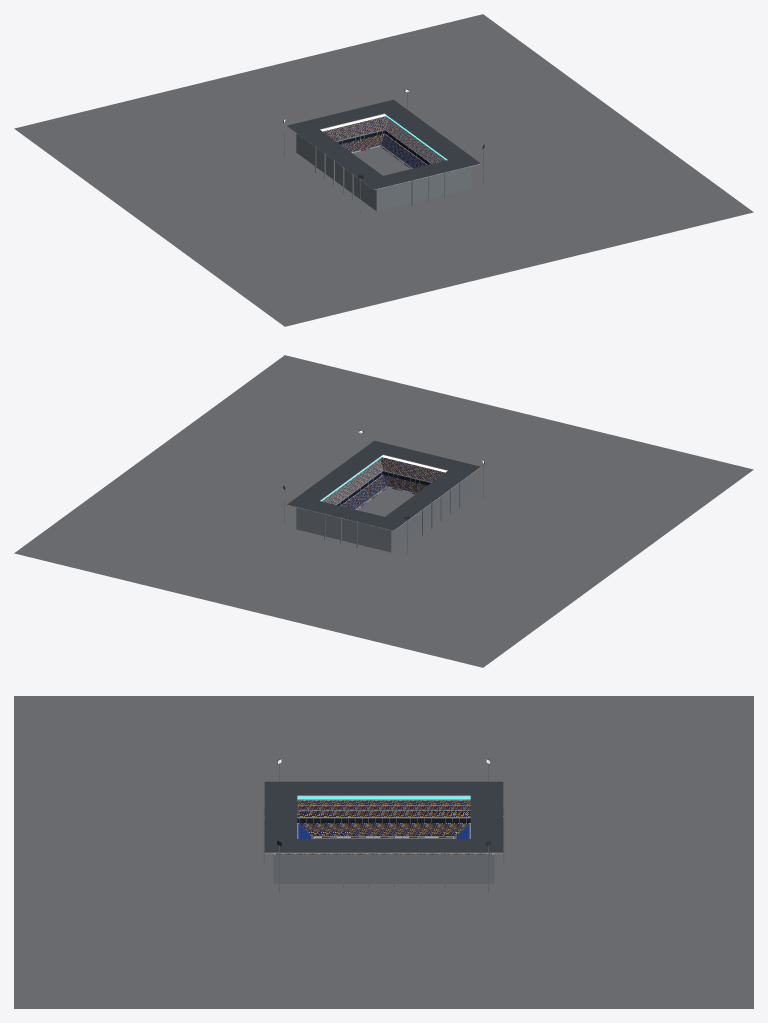
File: pro.glb
3 views of the same model, one above another, from view 1: azimuth 30°, elevation 25°; view 2: azimuth 150°, elevation 25°; view 3: azimuth 270°, elevation 25° (orthographic). The views are drawn at different scales.
Visible parts, largest first — view 1: pro; view 2: pro; view 3: pro.
Part boxes in pixels (x1,y1,x2,y2): pro: (14, 14, 753, 326); pro: (14, 355, 753, 667); pro: (14, 696, 753, 1008).
Size of the model in its own units: 640 by 49.56 by 640.
15 materials, 1 textured.
